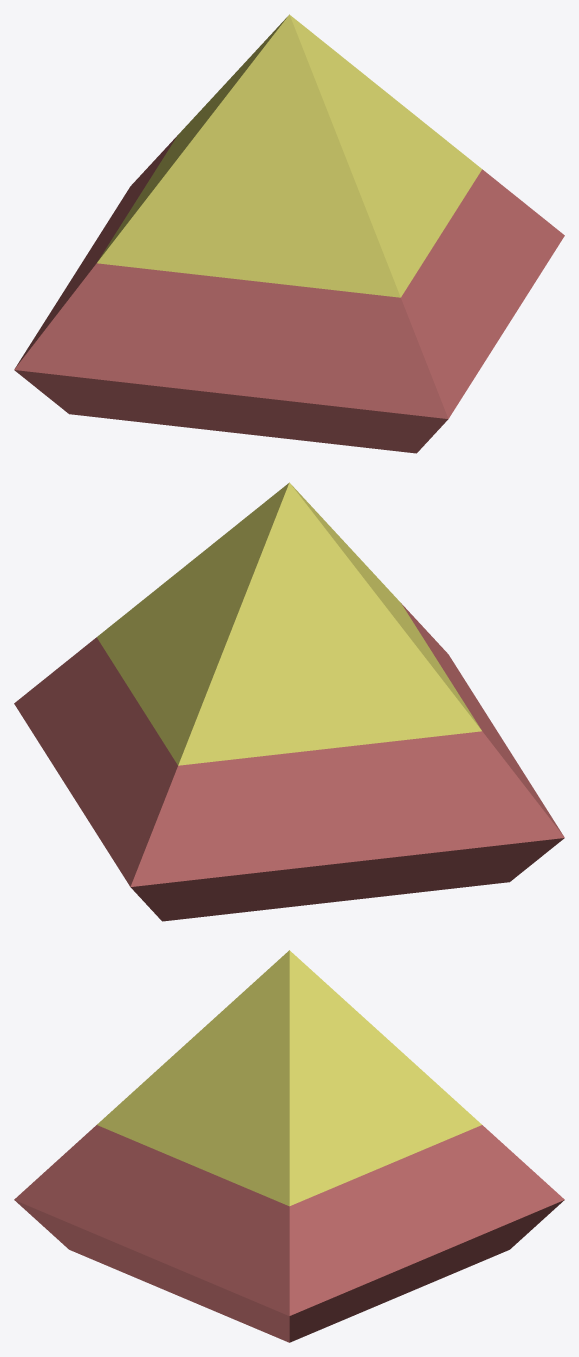
File: spike.gltf
3 renders of one model, top to bottom at view 1: azimuth 30°, elevation 25°; view 2: azimuth 150°, elevation 25°; view 3: azimuth 270°, elevation 25°, orthographic. The views are drawn at different scales.
Size of the model in its own units: 5 by 3 by 5.
